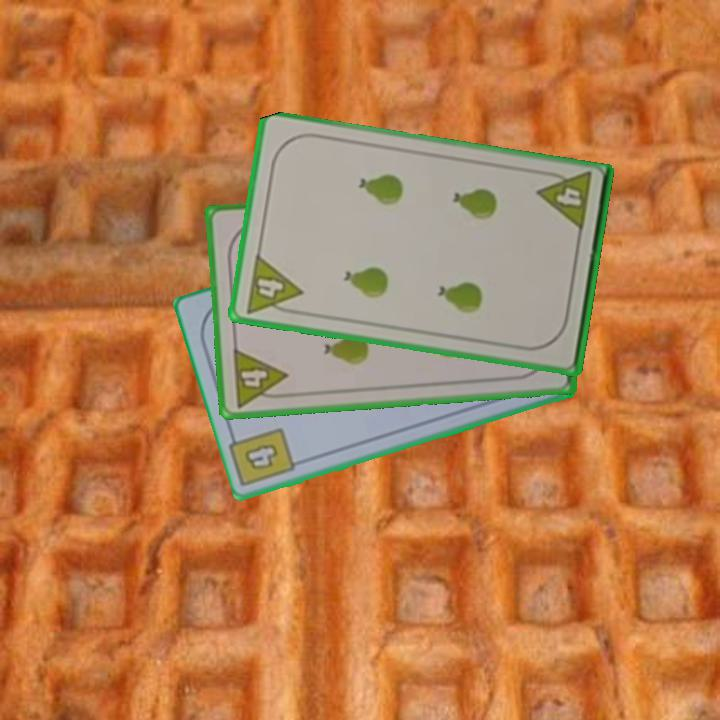4b: (240, 440, 281, 474)
4p: (241, 251, 305, 319), (534, 167, 595, 235), (229, 345, 291, 410)
